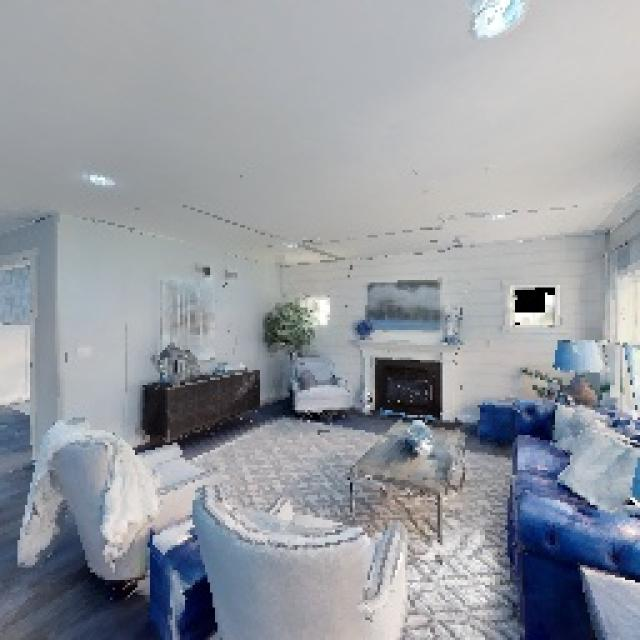door-frame: (0, 245, 47, 422)
sofa: (468, 383, 640, 640), (185, 475, 417, 640), (33, 413, 210, 584)
table: (342, 400, 480, 548)
